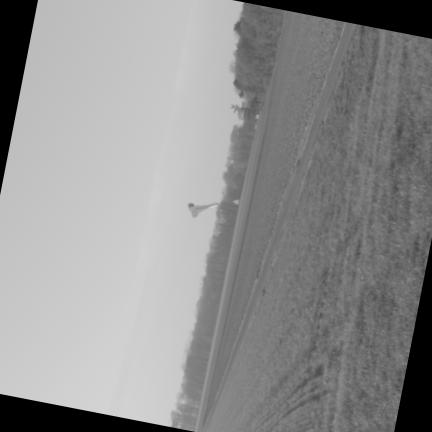Shahed: (189, 202, 218, 217)
